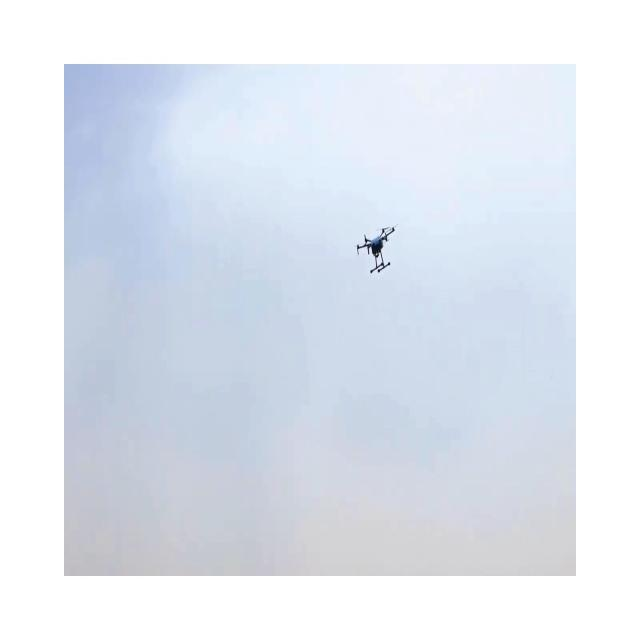drone: (356, 223, 398, 274)
